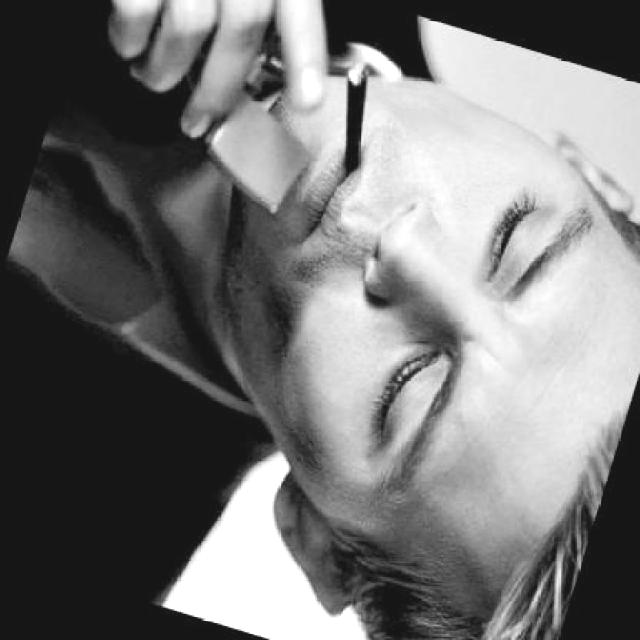smoke: (310, 52, 392, 182)
